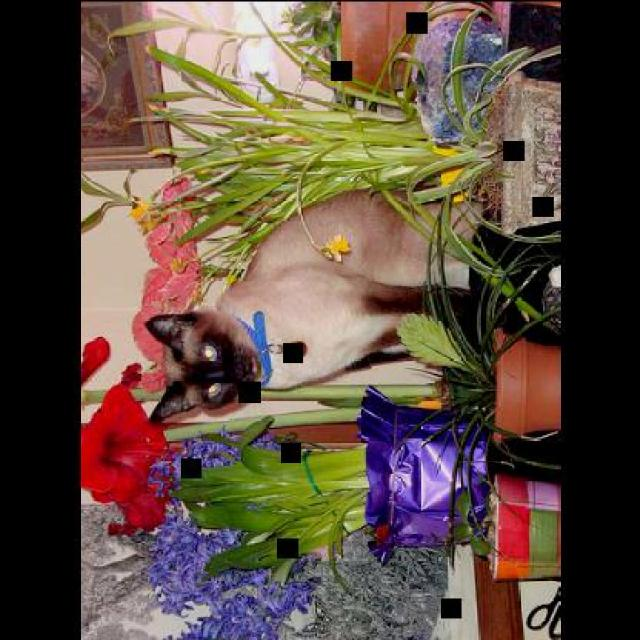unauthorized: (143, 182, 559, 423)
